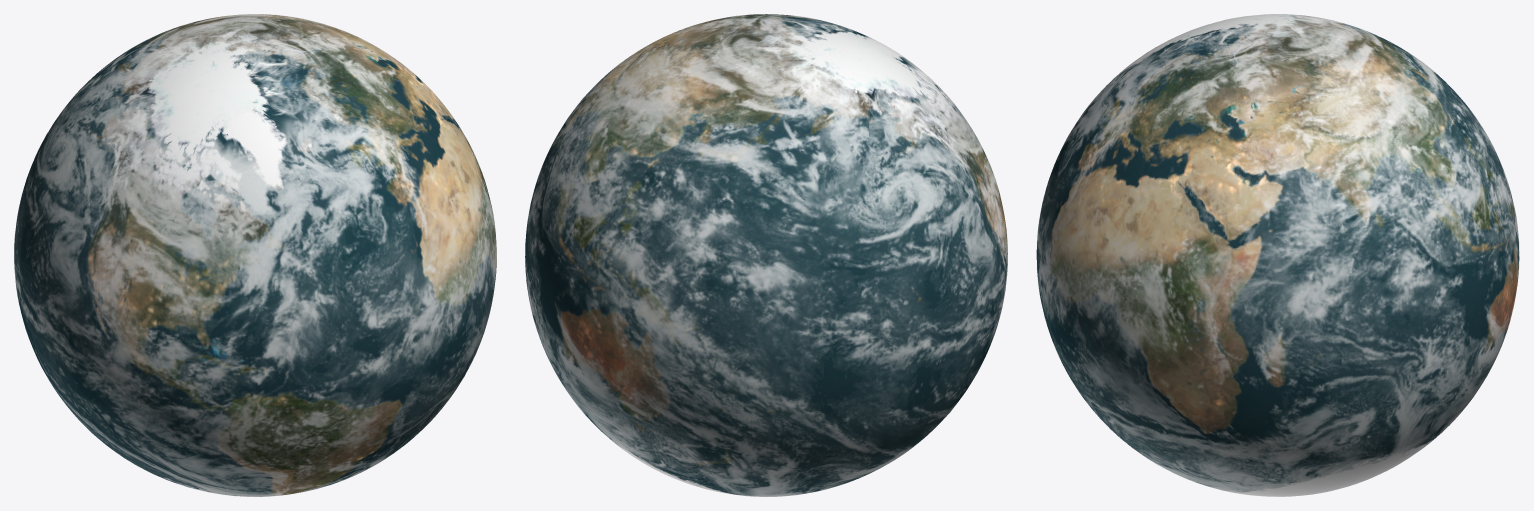
The model's file is modelDraco.glb.
The picture shows the model from 3 angles, left to right: view 1: azimuth 30°, elevation 25°; view 2: azimuth 150°, elevation 25°; view 3: azimuth 270°, elevation 25°; orthographic projection.
Parts seen in each view (by area): view 1: Earth, Clouds; view 2: Earth, Clouds; view 3: Earth, Clouds.
Part boxes in pixels (x1,y1,x2,y2): Earth: (14, 14, 496, 496); Clouds: (14, 14, 496, 496); Earth: (525, 14, 1007, 496); Clouds: (525, 14, 1007, 496); Earth: (1036, 14, 1519, 496); Clouds: (1036, 14, 1519, 496).
Size of the model in its own units: 2 by 2 by 2.
2 materials, 2 textured.
